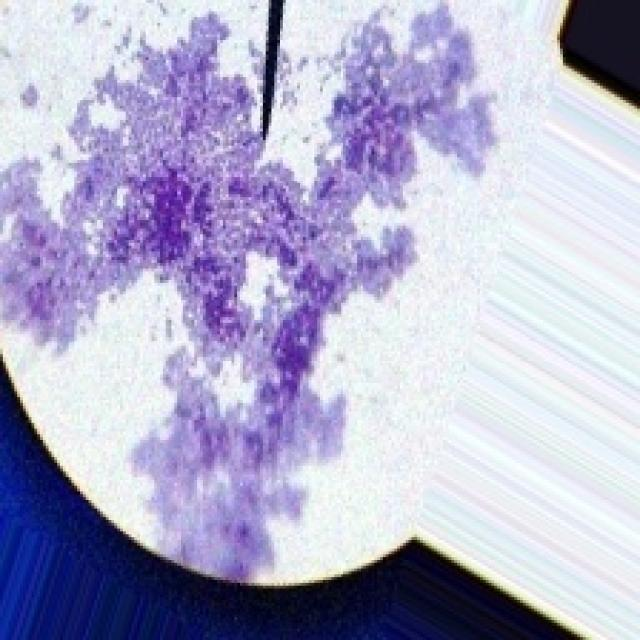Rod_bacteria: (0, 0, 506, 580)
